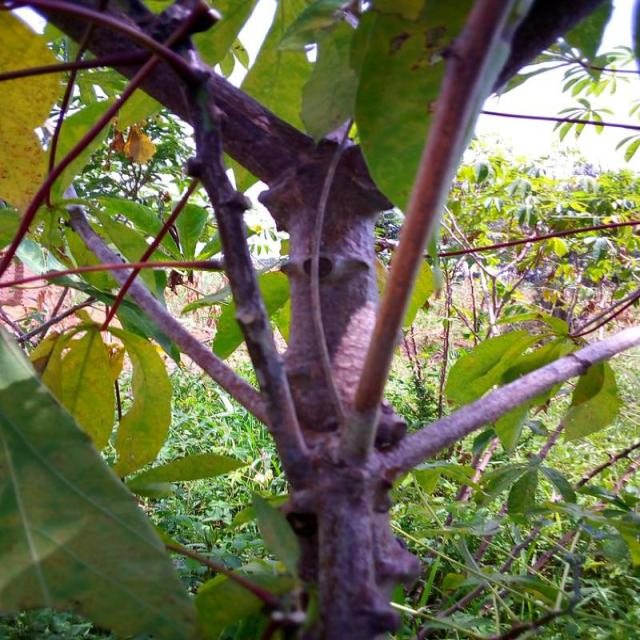cassava leaf: (0, 320, 199, 638)
